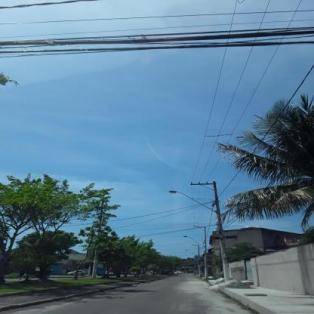Poste: (211, 180, 232, 280)
